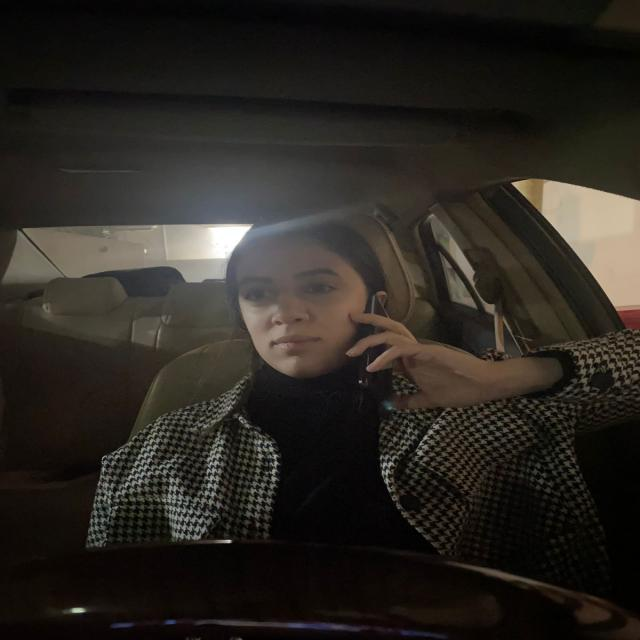mobile: (363, 292, 406, 404)
person: (226, 216, 382, 385)
